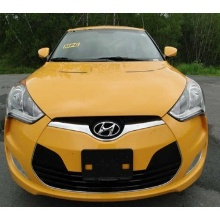no damage: (3, 25, 209, 202)
